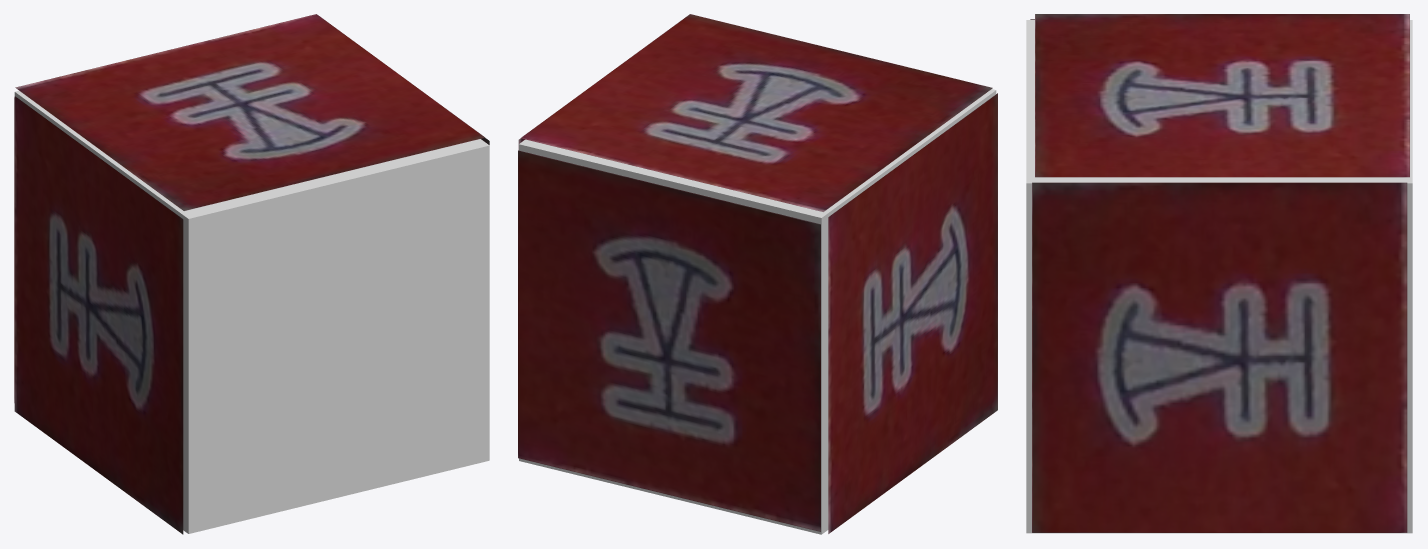
3 renders of one model, left to right at view 1: azimuth 30°, elevation 25°; view 2: azimuth 150°, elevation 25°; view 3: azimuth 270°, elevation 25°, orthographic. The views are drawn at different scales.
Parts seen in each view (by area): view 1: Link25, R1.002, R1.003; view 2: R1.005, R1.002, R1.003, Link25; view 3: R1.004, R1.003, Link25.
Boxes of the visible parts, x1,y1,x2,y2 form: Link25: (14, 90, 489, 533); R1.002: (14, 96, 183, 534); R1.003: (15, 14, 484, 210); R1.005: (518, 150, 820, 531); R1.002: (828, 93, 997, 533); R1.003: (521, 14, 992, 211); Link25: (519, 89, 996, 534); R1.004: (1032, 182, 1407, 532); R1.003: (1035, 14, 1409, 177); Link25: (1026, 20, 1412, 533).
Bounding box in the file's own units: 0.3569 × 0.3509 × 0.3578.
Materials: 1 (1 with a texture image).
